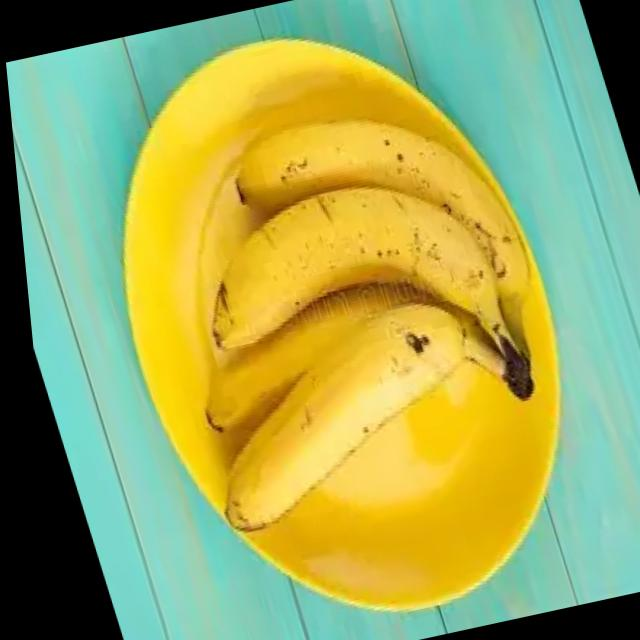BANANA: (209, 118, 539, 532)
